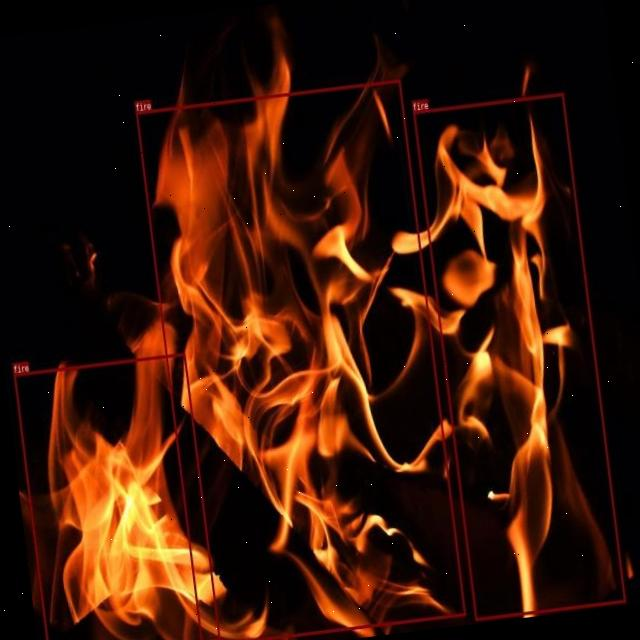fire: (135, 78, 465, 640), (412, 92, 626, 620), (13, 352, 220, 640)
